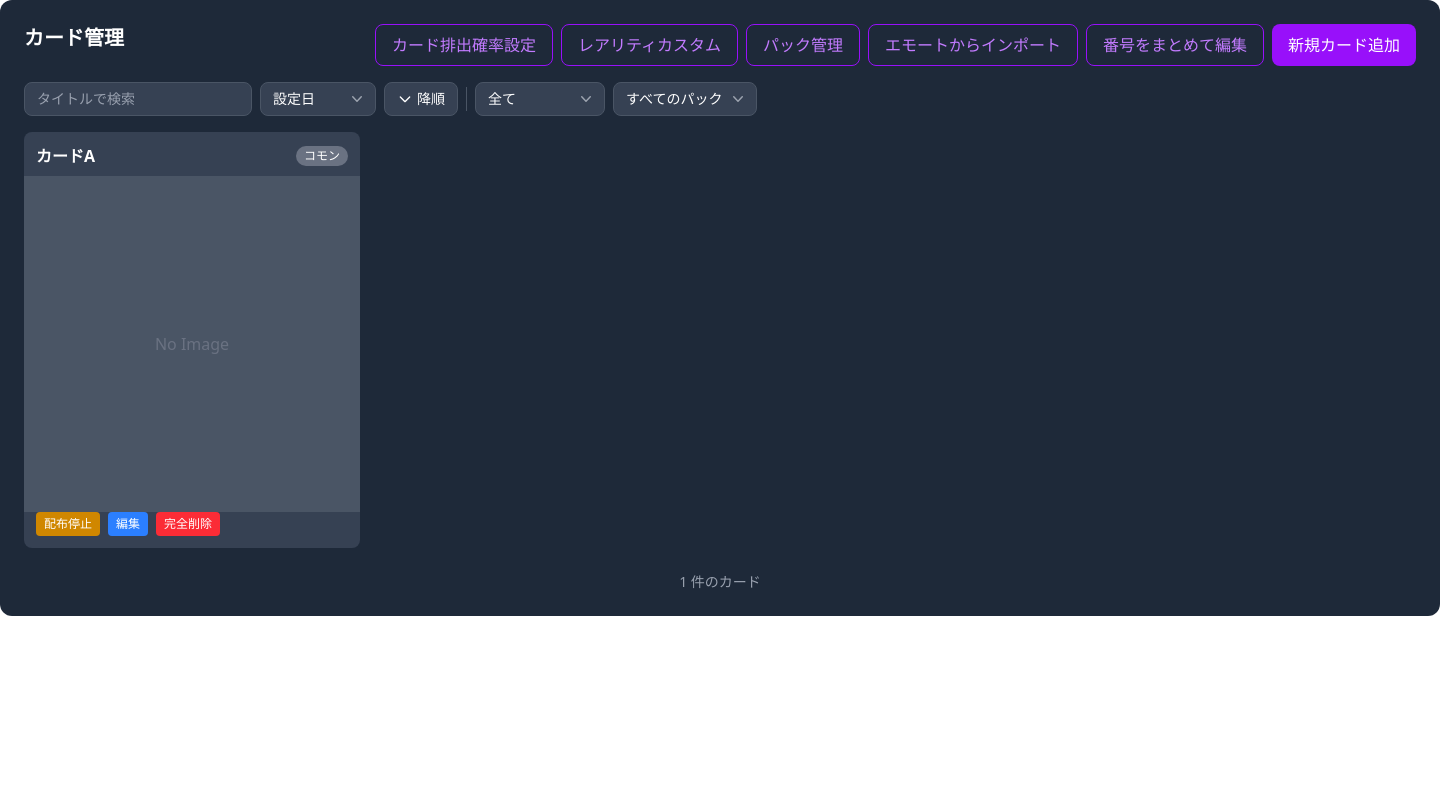
it: CardManager maintenance integration › mode=off のときは保存ボタンが操作可能（既存挙動を壊さない）
Click the button "新規カード追加" at coordinates (1344, 45), box [1272,24,1416,66]
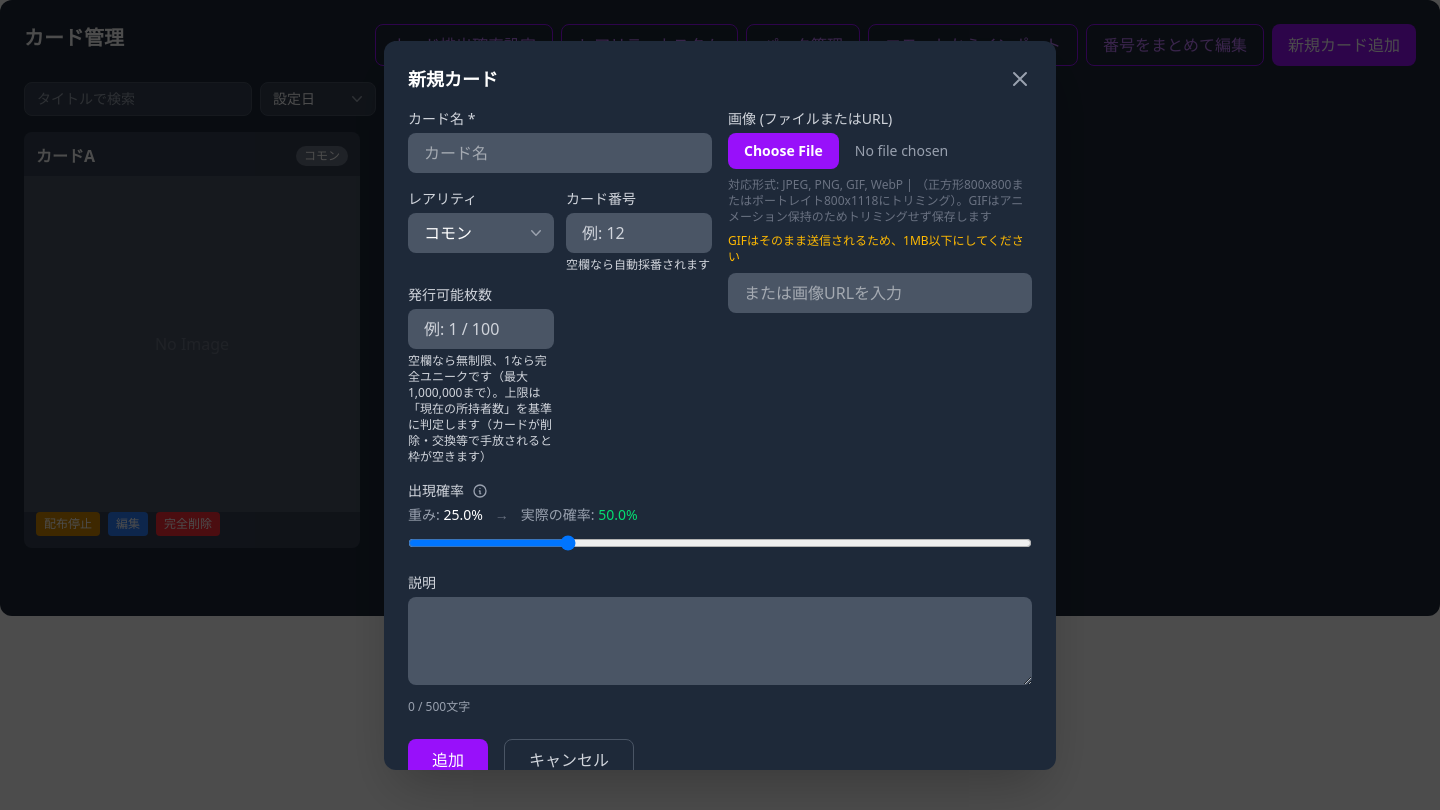
Now the button "追加" is enabled, box [408,738,488,770]
